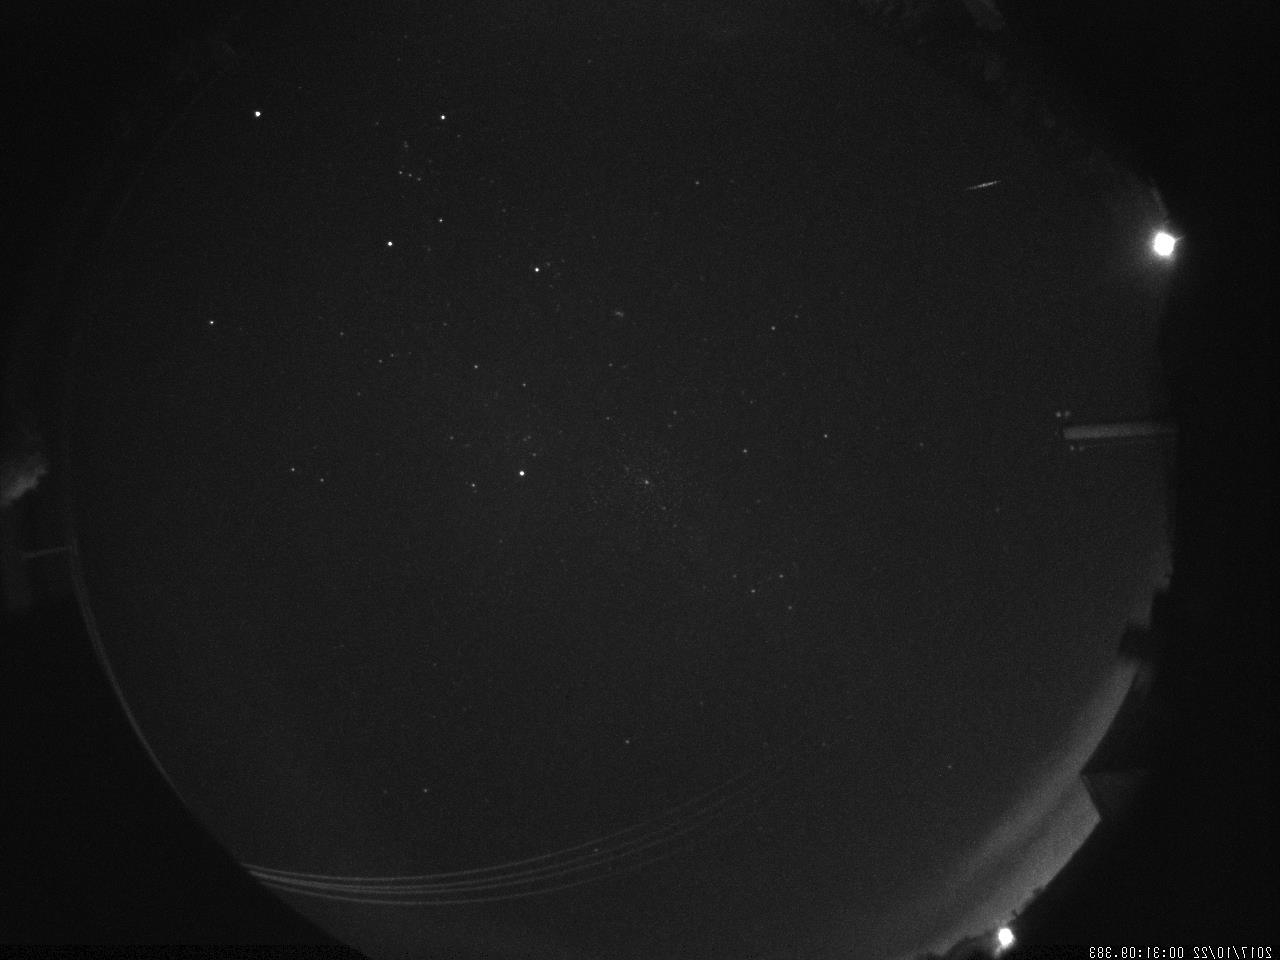meteor: (962, 166, 1018, 199)
